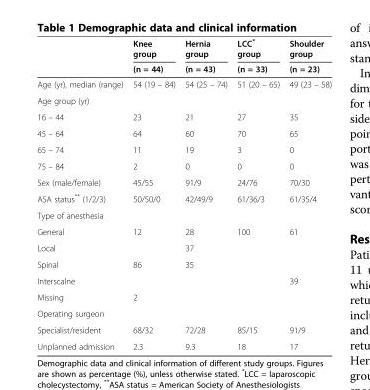table: (36, 36, 331, 350)
table column: (36, 36, 127, 350), (127, 36, 179, 350), (179, 36, 231, 350), (231, 36, 283, 350), (283, 36, 331, 350)
table column header: (36, 36, 331, 76)
table projected row header: (36, 206, 331, 223), (36, 304, 331, 321), (36, 92, 331, 108)
table row: (36, 36, 331, 60), (36, 124, 331, 141), (36, 189, 331, 206), (36, 206, 331, 223), (36, 255, 331, 272), (36, 304, 331, 321), (36, 60, 331, 76), (36, 76, 331, 92), (36, 92, 331, 108), (36, 108, 331, 124), (36, 141, 331, 157), (36, 157, 331, 173), (36, 173, 331, 189), (36, 223, 331, 239), (36, 239, 331, 255), (36, 272, 331, 288), (36, 288, 331, 304), (36, 321, 331, 337), (36, 337, 331, 350)
table spanning cell: (127, 36, 179, 76), (179, 36, 231, 76), (231, 36, 283, 76), (283, 36, 331, 76)
